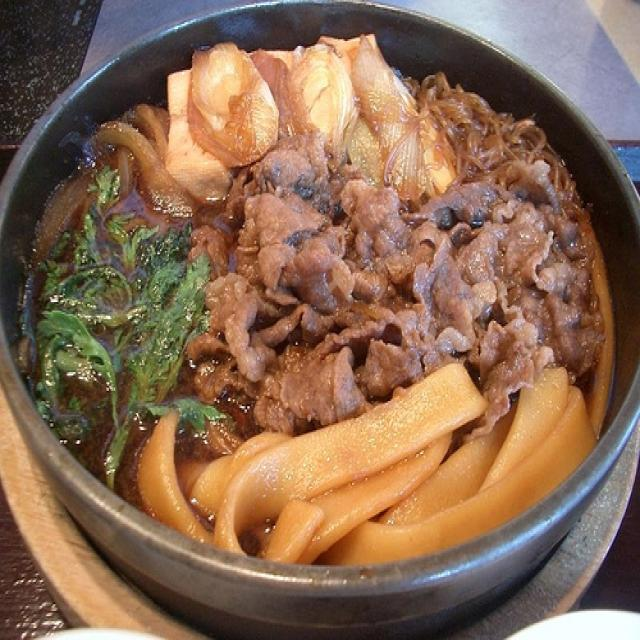汤锅炖物: (11, 12, 624, 613)
